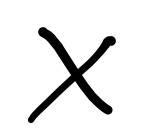mult: (29, 25, 114, 119)
